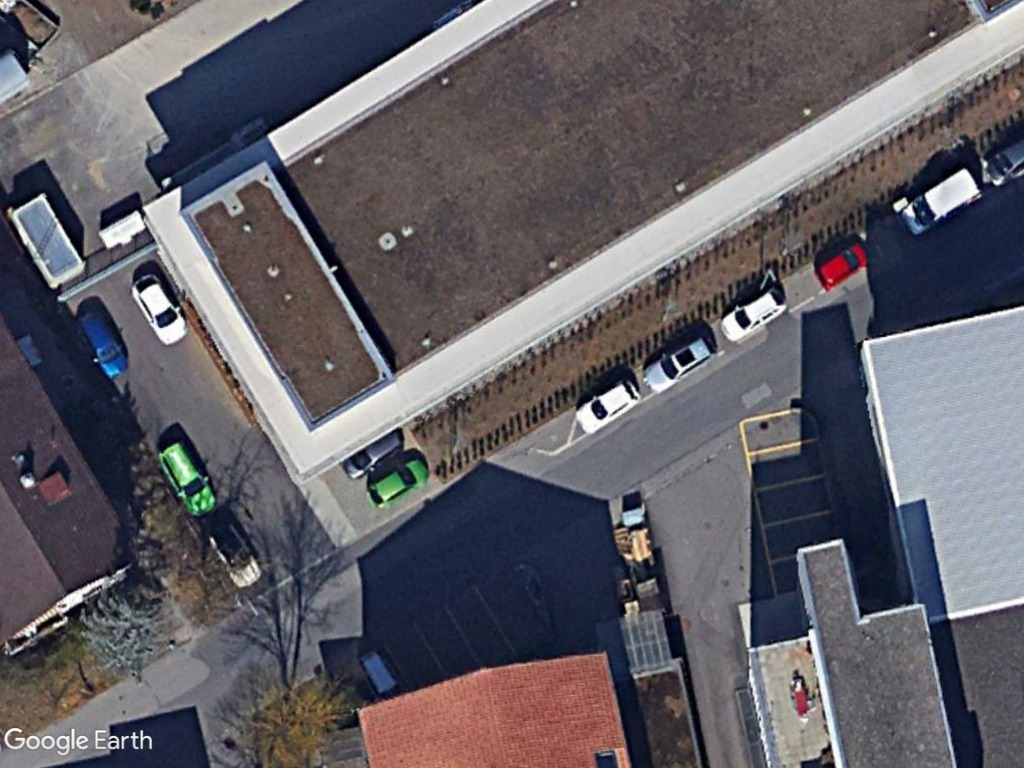car: (156, 439, 218, 520), (643, 329, 717, 395), (129, 272, 190, 348), (75, 309, 134, 383), (572, 376, 643, 435), (717, 286, 787, 343), (362, 457, 429, 511), (813, 238, 872, 290)
van: (898, 167, 984, 235)
